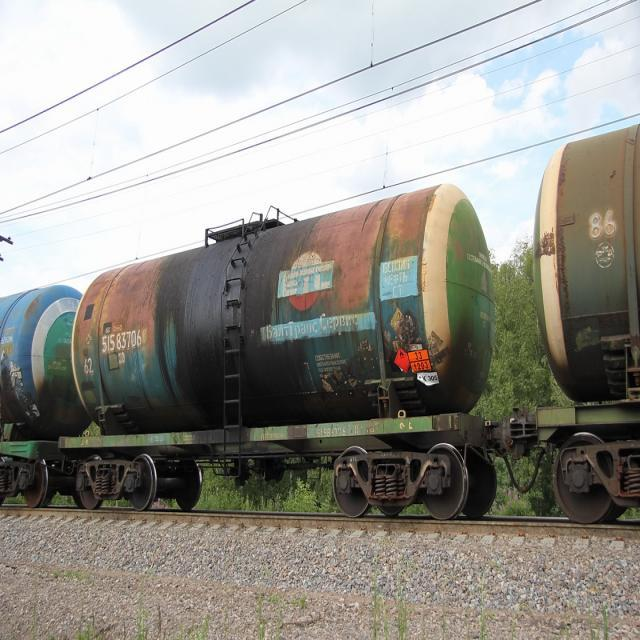wagon: (100, 326, 143, 354)
